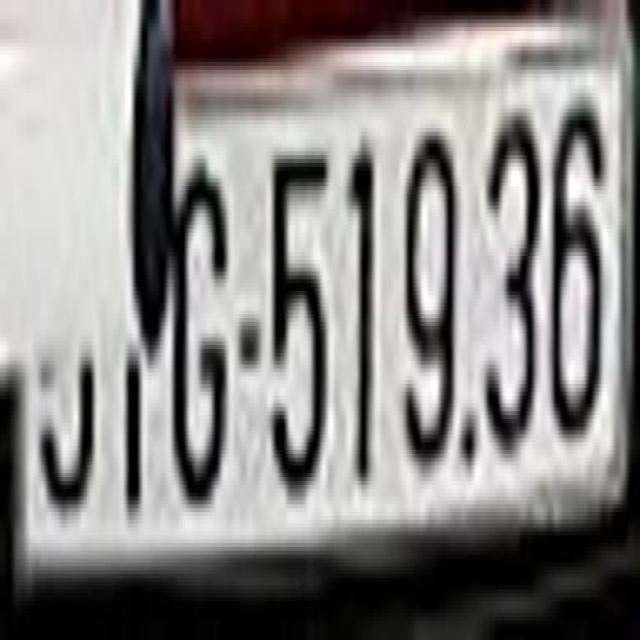1: (108, 62, 153, 528), (343, 118, 380, 494)
3: (483, 97, 539, 458)
5: (36, 89, 97, 520), (267, 119, 331, 502)
6: (549, 89, 606, 446)
9: (401, 111, 456, 475)
G: (169, 134, 230, 510)
